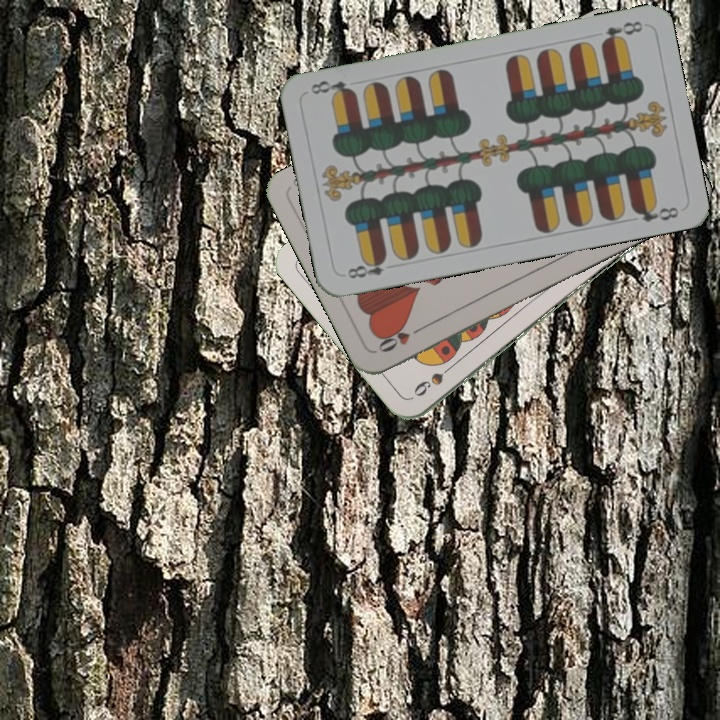E8: (597, 17, 646, 48), (343, 253, 389, 282)
HO: (373, 321, 428, 356)
S9: (410, 358, 460, 400)
